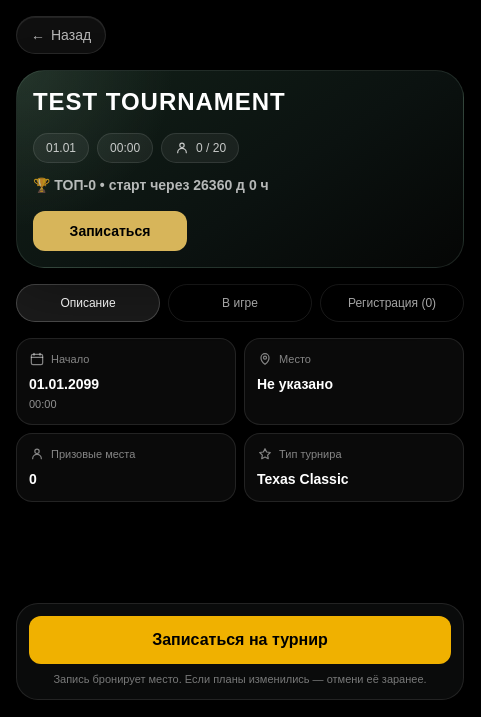
Scenario: normal (unrestricted) player -- unchanged › registering shows the usual success, no restricted copy
Click the button "Записаться на турнир" at (240, 640), box [29,616,451,664]
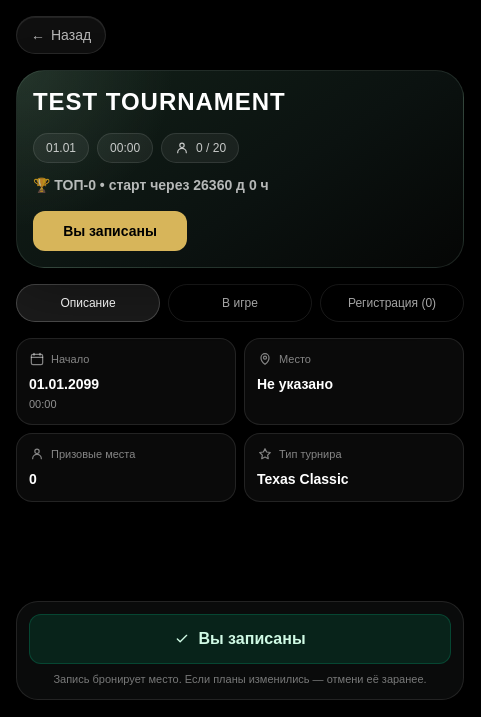
Click the button "Регистрация (0)" at (392, 303), box [320,284,464,322]
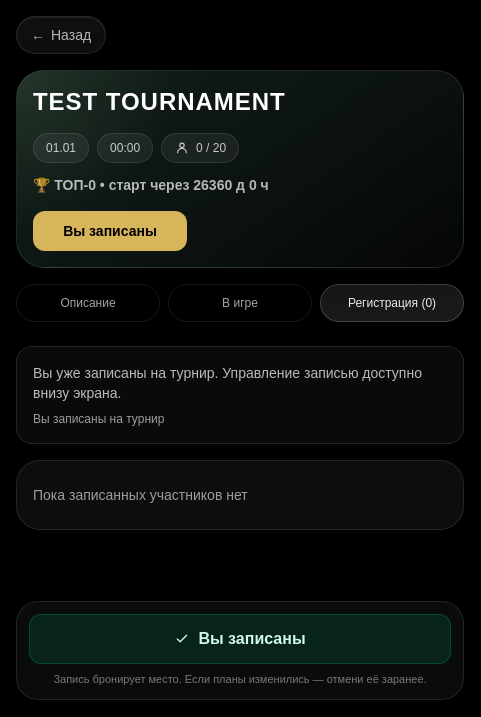
Expected: the text "Вы записаны на турнир" is shown, [33,412,164,426]
